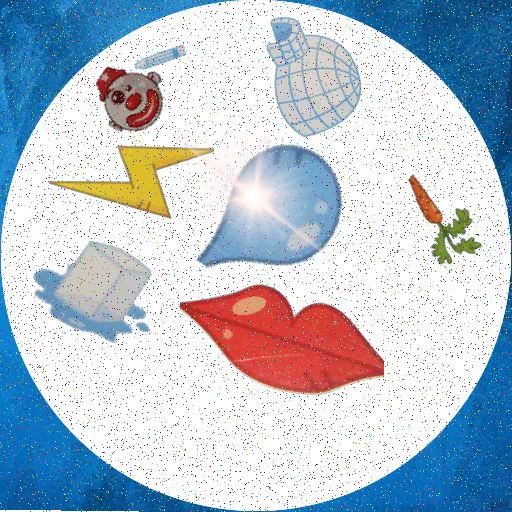carrot_icon: (385, 174, 487, 276)
clown_icon: (94, 59, 168, 133)
cube_icon: (31, 214, 171, 354)
igloo_icon: (240, 7, 370, 137)
lightning_icon: (49, 91, 214, 256)
lips_icon: (180, 249, 384, 453)
pen_icon: (134, 32, 186, 84)
raindrop_icon: (189, 133, 350, 294)
